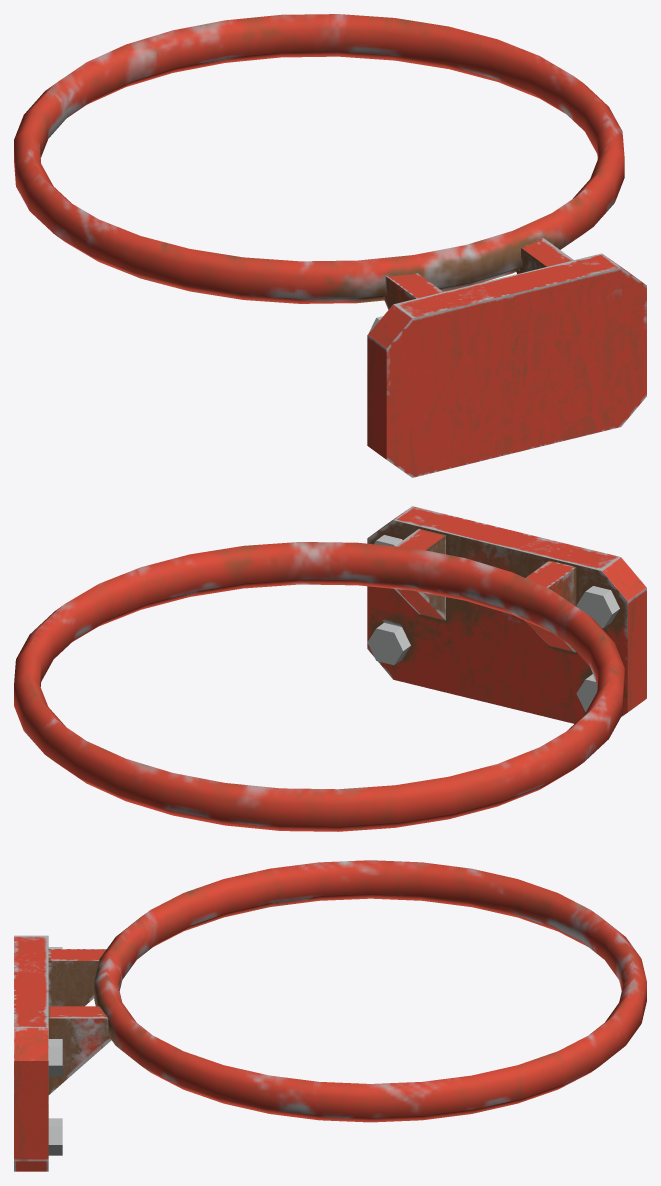
File: Basket.fbx
3 renders of one model, top to bottom at view 1: azimuth 30°, elevation 25°; view 2: azimuth 150°, elevation 25°; view 3: azimuth 270°, elevation 25°, orthographic. The views are drawn at different scales.
Parts seen in each view (by area): view 1: BasketballBasket; view 2: BasketballBasket; view 3: BasketballBasket.
Boxes of the visible parts, x1,y1,x2,y2 form: BasketballBasket: (14,14,646,477); BasketballBasket: (14,506,646,831); BasketballBasket: (14,860,646,1171).
Size of the model in its own units: 1.04 by 0.3203 by 1.2.
1 material, 1 textured.
